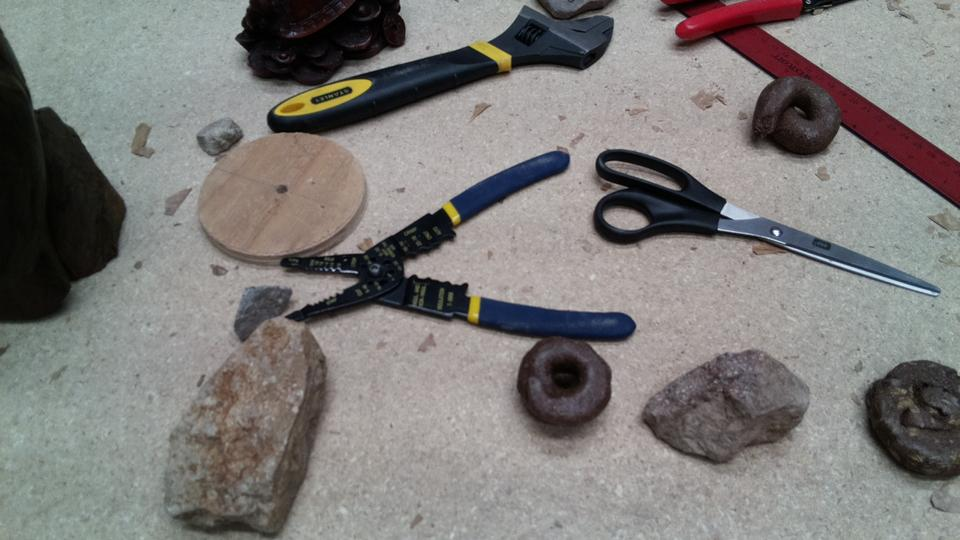poop: (862, 358, 960, 487), (511, 333, 614, 431), (749, 77, 843, 158)
